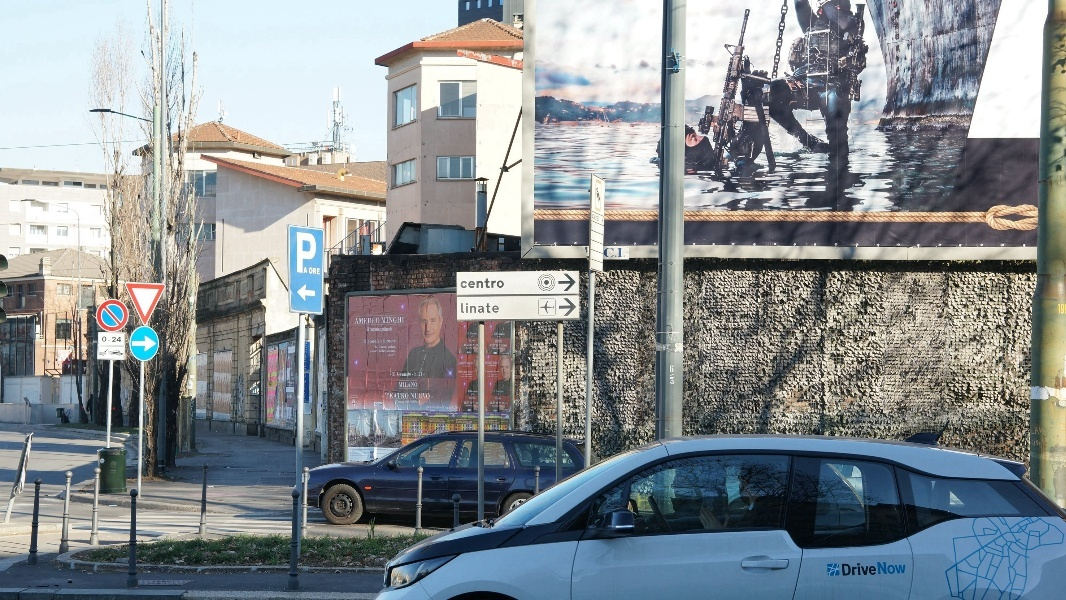text: (305, 232, 321, 275), (305, 342, 320, 372), (297, 232, 304, 275), (484, 443, 496, 465), (466, 332, 480, 350), (466, 390, 480, 407), (849, 563, 864, 577), (497, 332, 508, 350), (497, 390, 508, 408), (449, 442, 458, 464), (497, 443, 506, 465), (881, 562, 896, 575), (485, 362, 496, 379), (465, 277, 480, 289), (481, 277, 496, 289), (865, 563, 877, 577), (465, 303, 480, 314), (481, 303, 496, 314), (417, 433, 432, 444), (609, 247, 624, 258), (465, 362, 474, 380), (371, 345, 384, 357), (402, 433, 416, 444), (385, 345, 397, 357), (436, 443, 448, 453), (897, 562, 906, 575), (458, 362, 464, 380), (385, 317, 400, 324), (421, 449, 432, 458), (466, 442, 480, 449), (497, 277, 505, 289), (401, 382, 416, 388), (385, 393, 400, 399), (353, 449, 368, 455), (356, 317, 368, 324), (369, 317, 381, 324), (842, 563, 848, 577), (417, 393, 430, 399), (433, 418, 446, 424), (357, 414, 368, 421), (385, 449, 397, 455), (492, 390, 496, 408), (445, 442, 448, 464), (593, 213, 600, 222), (433, 406, 448, 410), (484, 420, 496, 425), (404, 417, 416, 422), (417, 417, 429, 422), (370, 328, 384, 332), (401, 372, 412, 377), (493, 332, 496, 350), (113, 337, 122, 343), (497, 362, 500, 379), (102, 337, 112, 342), (385, 327, 393, 333), (401, 393, 409, 399), (385, 414, 394, 419), (369, 339, 380, 343), (405, 399, 416, 403), (604, 247, 608, 258), (369, 449, 376, 455), (602, 217, 608, 224), (392, 372, 400, 377), (465, 419, 473, 424), (670, 365, 672, 385), (673, 365, 675, 385), (387, 340, 400, 343), (877, 562, 880, 575), (461, 277, 464, 289), (410, 393, 416, 399), (375, 403, 384, 407), (378, 449, 384, 455), (449, 406, 458, 410), (409, 399, 416, 404), (457, 419, 464, 424), (461, 303, 464, 314), (497, 303, 500, 314), (501, 421, 512, 424), (417, 371, 422, 377), (502, 409, 512, 412), (305, 373, 306, 403), (401, 317, 405, 324), (503, 352, 512, 355), (380, 327, 384, 333), (353, 395, 359, 399), (426, 406, 432, 410), (449, 420, 456, 423), (474, 420, 480, 423), (396, 399, 400, 403), (401, 399, 405, 403), (113, 470, 117, 474), (365, 339, 368, 344), (397, 372, 400, 377), (497, 420, 500, 425), (382, 317, 384, 324), (380, 340, 384, 343), (414, 371, 416, 377), (350, 449, 352, 455), (430, 418, 432, 424), (625, 247, 626, 258), (350, 395, 352, 399), (399, 382, 400, 388), (417, 382, 418, 388), (367, 327, 368, 332), (369, 327, 370, 332), (385, 338, 386, 343), (417, 399, 418, 404), (383, 414, 384, 419), (111, 470, 112, 474)
